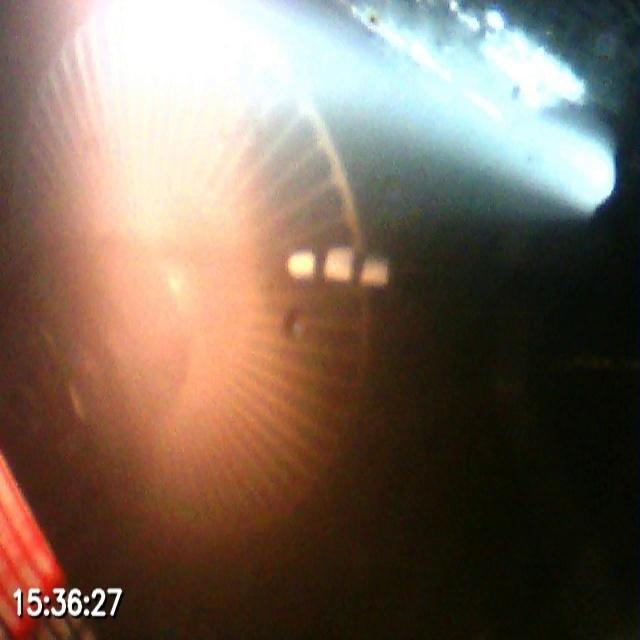white-dots: (284, 243, 391, 290)
